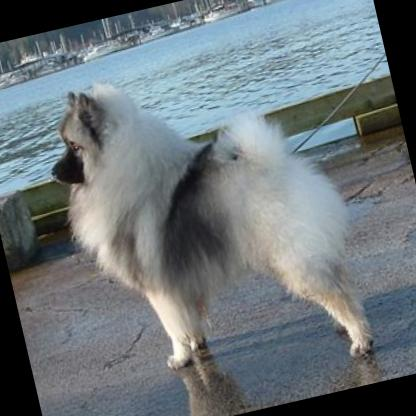keeshond: (29, 34, 383, 416)
